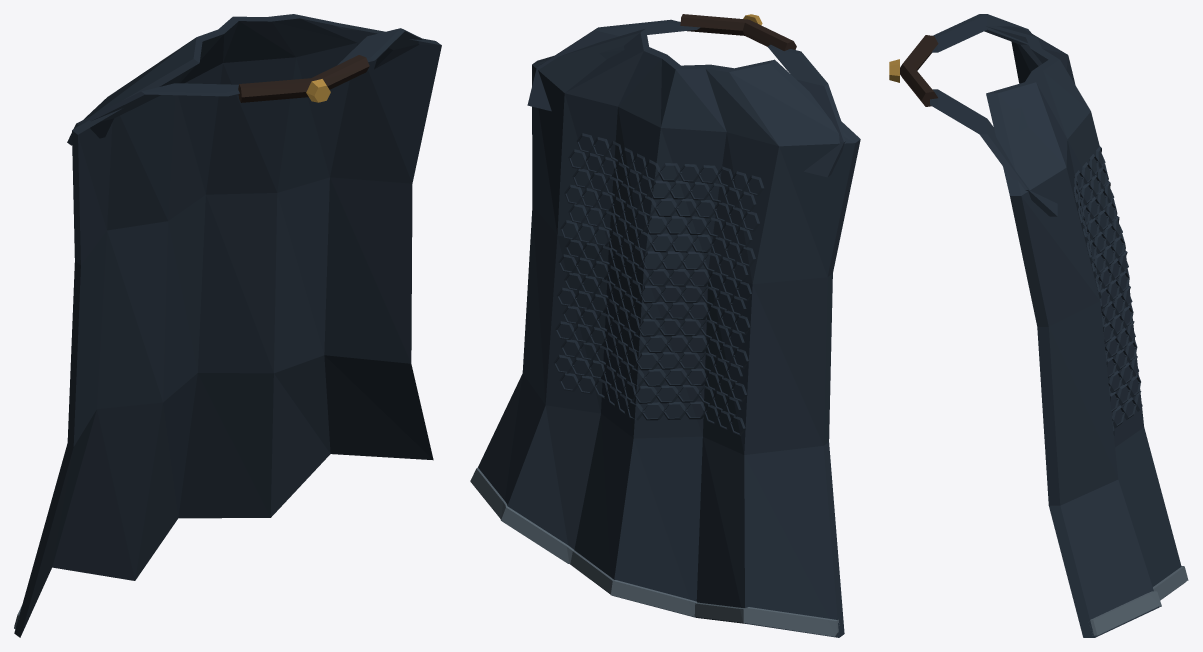
The model's file is ring_back-male.glb.
3 renders of one model, left to right at view 1: azimuth 30°, elevation 25°; view 2: azimuth 150°, elevation 25°; view 3: azimuth 270°, elevation 25°, orthographic. The views are drawn at different scales.
Parts seen in each view (by area): view 1: ring draped back mantle, Mantle neck fastening, Mantle shoulder fall -1, Mantle shoulder fall 1; view 2: ring draped back mantle, ring woven coverage on ring draped back mantle, Mantle weighted bound hem, Mantle shoulder fall -1, Mantle shoulder fall 1, Mantle neck fastening; view 3: ring draped back mantle, ring woven coverage on ring draped back mantle, Mantle shoulder fall 1, Mantle weighted bound hem, Mantle shoulder fall -1, Mantle neck fastening.
Boxes of the visible parts, x1=… form: ring draped back mantle: x1=14, y1=14, x2=441, y2=637; Mantle neck fastening: x1=238, y1=55, x2=369, y2=102; Mantle shoulder fall -1: x1=67, y1=83, x2=239, y2=145; Mantle shoulder fall 1: x1=337, y1=28, x2=422, y2=69; ring draped back mantle: x1=473, y1=28, x2=860, y2=637; ring woven coverage on ring draped back mantle: x1=553, y1=133, x2=764, y2=435; Mantle weighted bound hem: x1=470, y1=467, x2=839, y2=636; Mantle shoulder fall -1: x1=768, y1=44, x2=845, y2=177; Mantle shoulder fall 1: x1=527, y1=19, x2=700, y2=111; Mantle neck fastening: x1=680, y1=14, x2=796, y2=50; ring draped back mantle: x1=985, y1=26, x2=1185, y2=637; ring woven coverage on ring draped back mantle: x1=1074, y1=146, x2=1142, y2=435; Mantle shoulder fall 1: x1=930, y1=89, x2=1057, y2=216; Mantle weighted bound hem: x1=1090, y1=566, x2=1188, y2=635; Mantle shoulder fall -1: x1=931, y1=14, x2=1040, y2=66; Mantle neck fastening: x1=900, y1=35, x2=938, y2=106.
Bounding box in the file's own units: 2.57 × 3.44 × 1.69.
